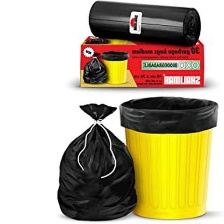plastic_bag: (36, 99, 141, 221), (82, 0, 203, 48), (115, 93, 222, 136), (79, 52, 108, 85), (95, 50, 132, 61)
